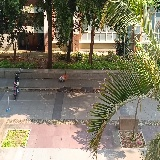fire: (62, 75, 68, 80)
